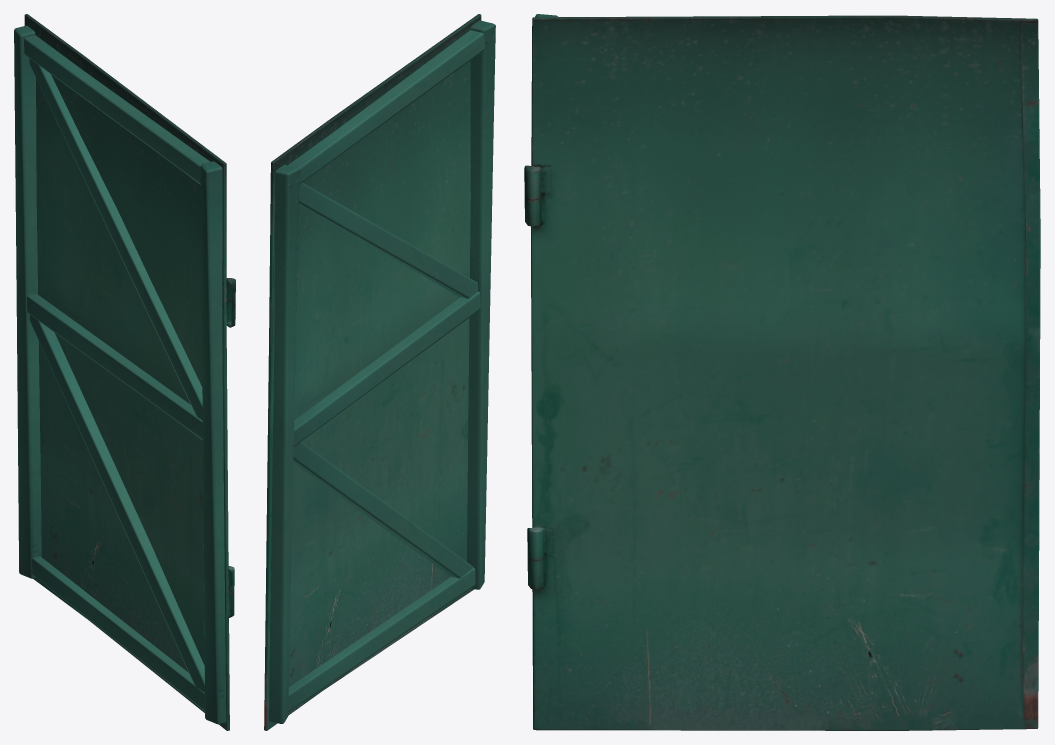
Rendered from sm_GarageDoor_01_06.fbx.
3 renders of one model, left to right at view 1: azimuth 30°, elevation 25°; view 2: azimuth 150°, elevation 25°; view 3: azimuth 270°, elevation 25°, orthographic. The views are drawn at different scales.
Parts seen in each view (by area): view 1: sm_GarageDoor_01_06_LOD0; view 2: sm_GarageDoor_01_06_LOD0; view 3: sm_GarageDoor_01_06_LOD0.
Part boxes in pixels (<box>): sm_GarageDoor_01_06_LOD0: <box>14,14,235,730</box>; sm_GarageDoor_01_06_LOD0: <box>264,14,495,730</box>; sm_GarageDoor_01_06_LOD0: <box>524,14,1040,730</box>.
Size of the model in its own units: 180 by 15.09 by 274.
